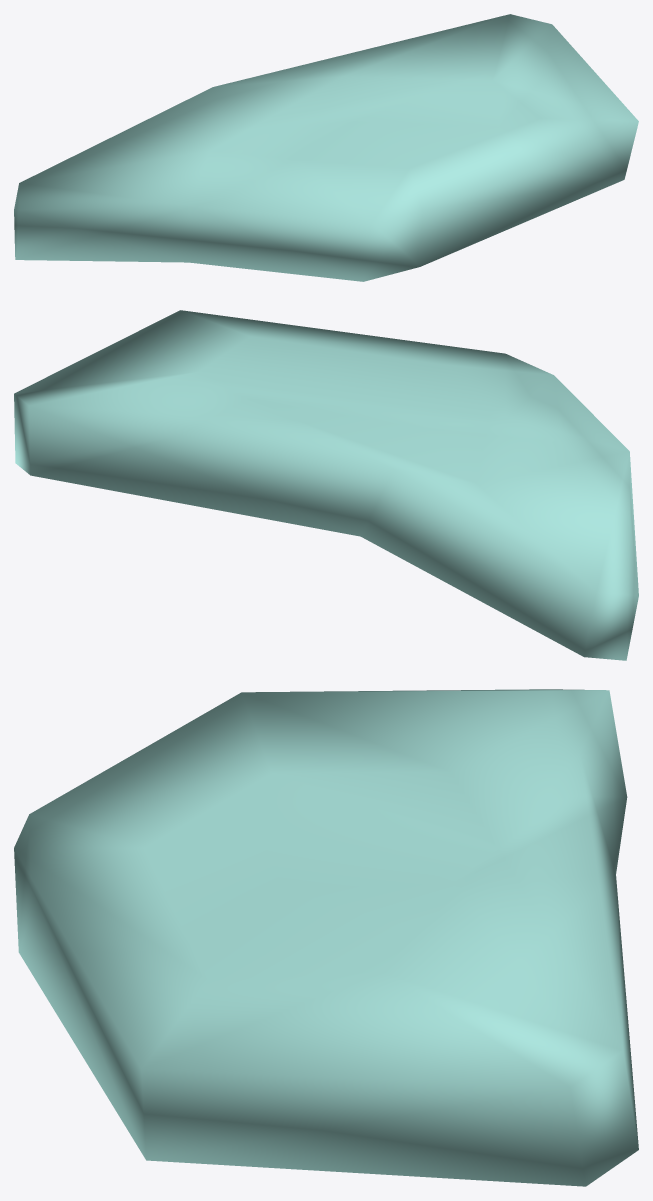
The model's file is tr_seaglass04.fbx.
3 renders of one model, top to bottom at view 1: azimuth 30°, elevation 25°; view 2: azimuth 150°, elevation 25°; view 3: azimuth 270°, elevation 25°, orthographic. The views are drawn at different scales.
Parts seen in each view (by area): view 1: tr_seaglass04; view 2: tr_seaglass04; view 3: tr_seaglass04.
Boxes of the visible parts, left/top/right/bottom form: tr_seaglass04: left=14, top=14, right=638, bottom=281; tr_seaglass04: left=14, top=310, right=638, bottom=660; tr_seaglass04: left=14, top=689, right=638, bottom=1186.
Bounding box in the file's own units: 6.74 × 1.44 × 3.64.
